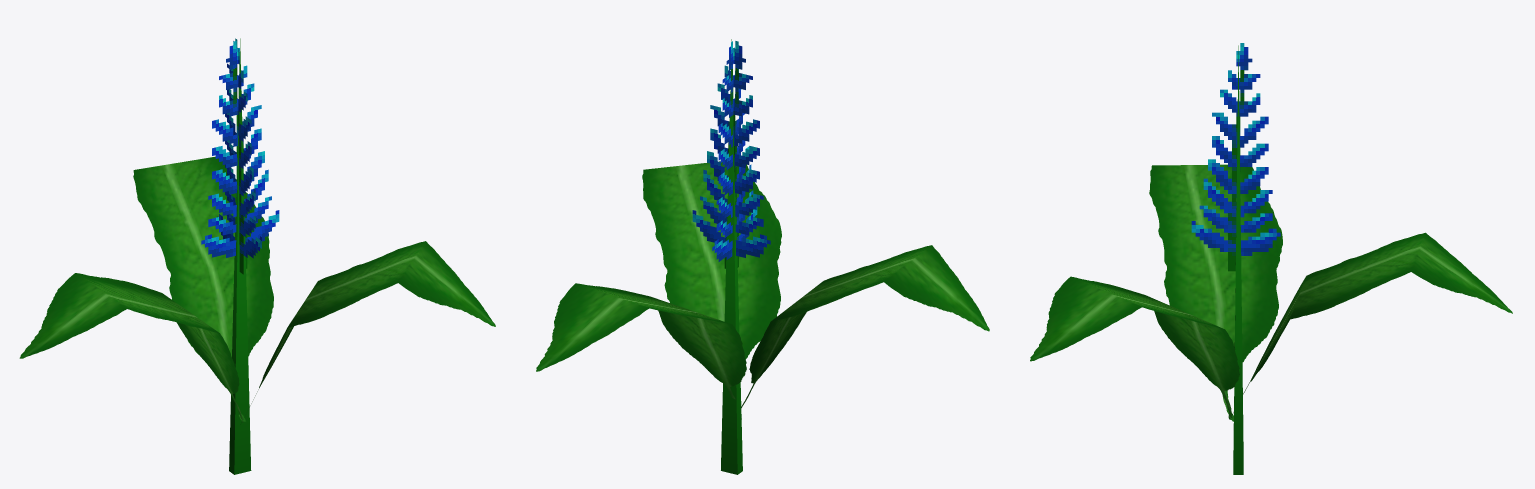
The model's file is bush05.obj.
The picture shows the model from 3 angles, left to right: view 1: azimuth 30°, elevation 25°; view 2: azimuth 150°, elevation 25°; view 3: azimuth 270°, elevation 25°; orthographic projection.
Visible parts, largest first — view 1: Duplicate03, Box01, Box02, Duplicate01; view 2: Duplicate03, Box01, Box02, Duplicate01; view 3: Duplicate03, Duplicate01, Box02.
Part boxes in pixels (left/top/right/bottom): Duplicate03: left=19, top=156, right=495, bottom=424; Box01: left=201, top=41, right=279, bottom=268; Box02: left=229, top=38, right=251, bottom=474; Duplicate01: left=217, top=38, right=261, bottom=274; Duplicate03: left=536, top=161, right=989, bottom=407; Box01: left=692, top=41, right=770, bottom=268; Box02: left=721, top=39, right=742, bottom=474; Duplicate01: left=712, top=41, right=757, bottom=267; Duplicate03: left=1030, top=164, right=1512, bottom=421; Duplicate01: left=1191, top=43, right=1280, bottom=271; Box02: left=1233, top=45, right=1243, bottom=474.
Bounding box in the file's own units: 26.44 × 27.59 × 28.6.
